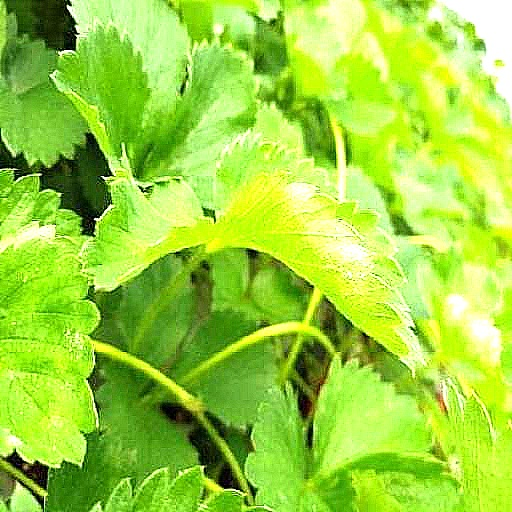Powdery Mildew Leaf: (207, 169, 425, 377), (0, 219, 102, 470)
